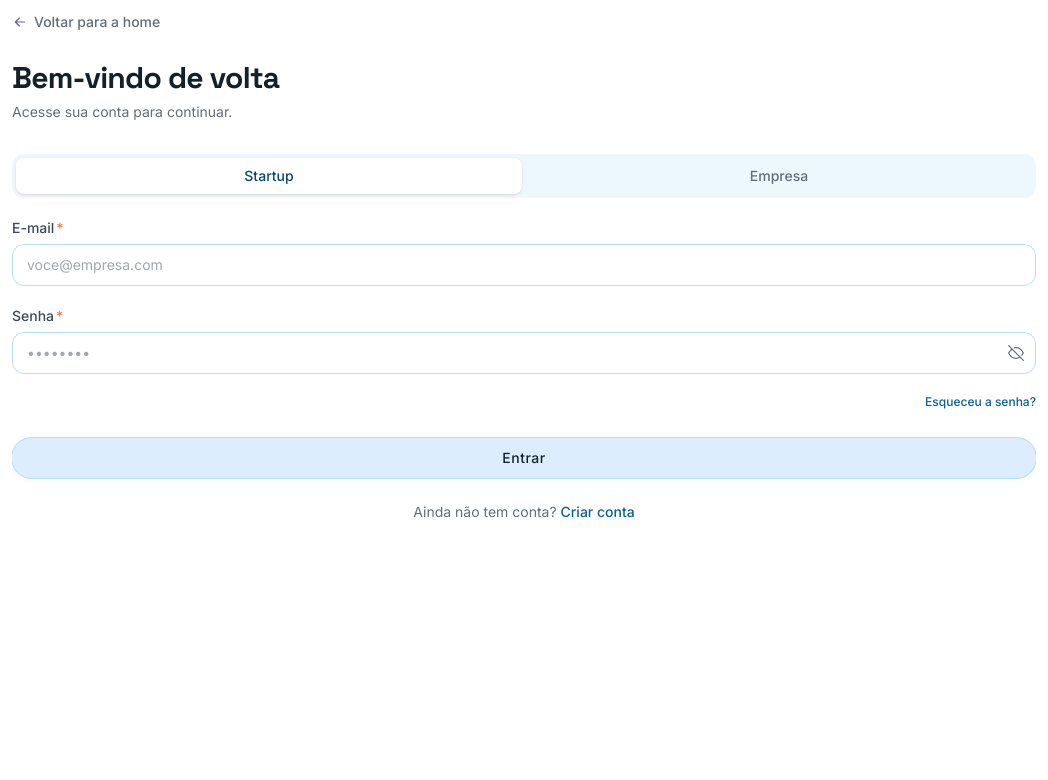
Test: Fluxo de Login - FormularioLogin › deve validar e exibir erros quando submetido com campos vazios
Click the button "Entrar" at [524, 458], box [12,438,1036,478]
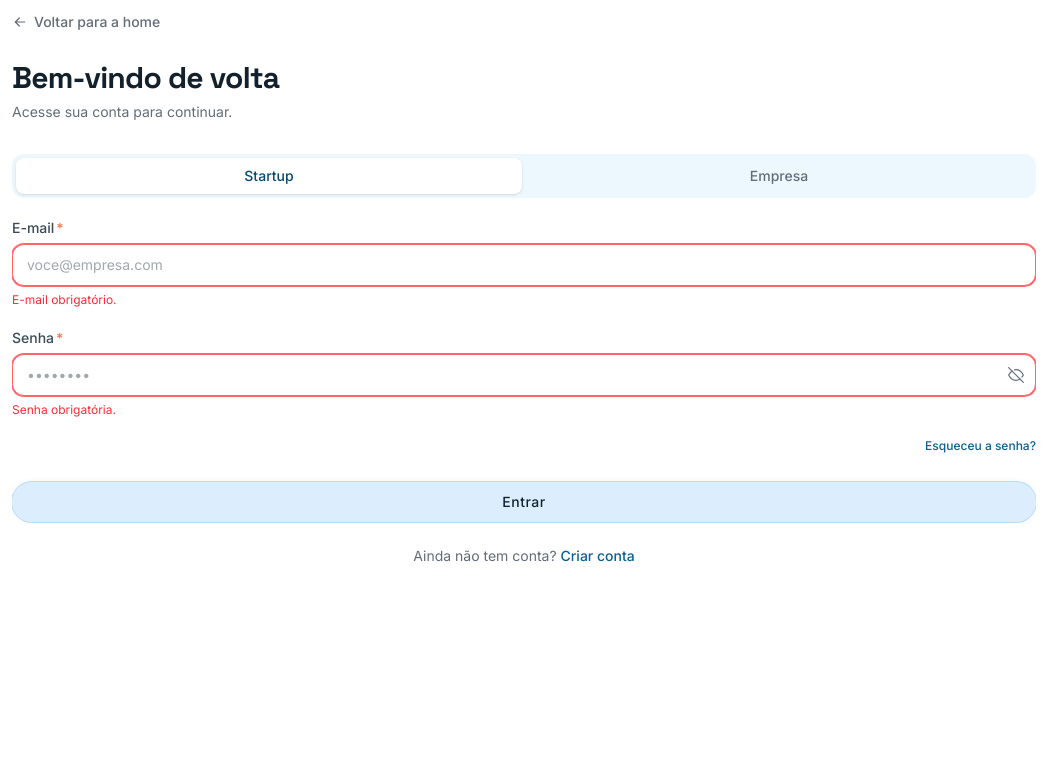
Expected: the text "E-mail obrigatório." is shown, [12,292,117,307]
Expected: the text "Senha obrigatória." is shown, [12,402,116,417]
